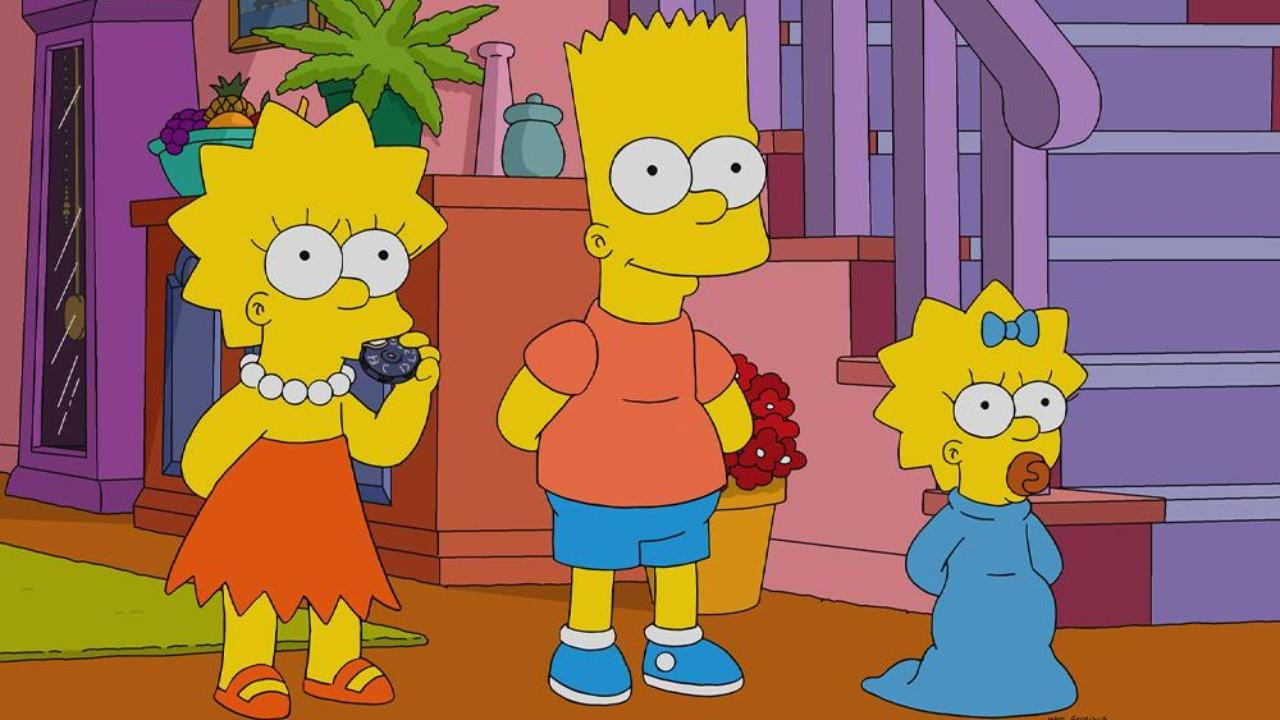Bart: (523, 0, 806, 715)
Lisa: (146, 77, 459, 712)
Maggie: (860, 277, 1138, 720)
